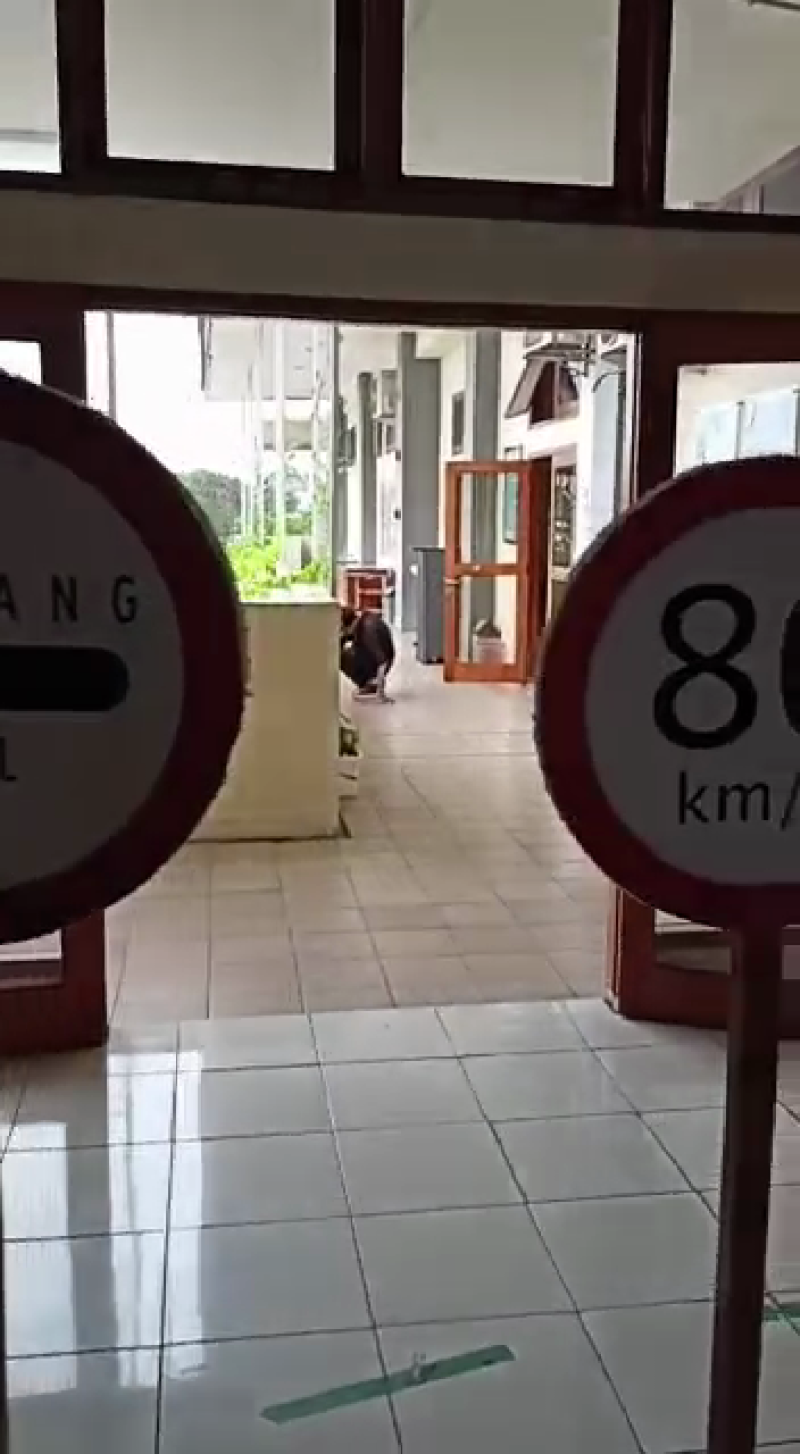batas maksimal 80kmperjam: (518, 424, 800, 941)
